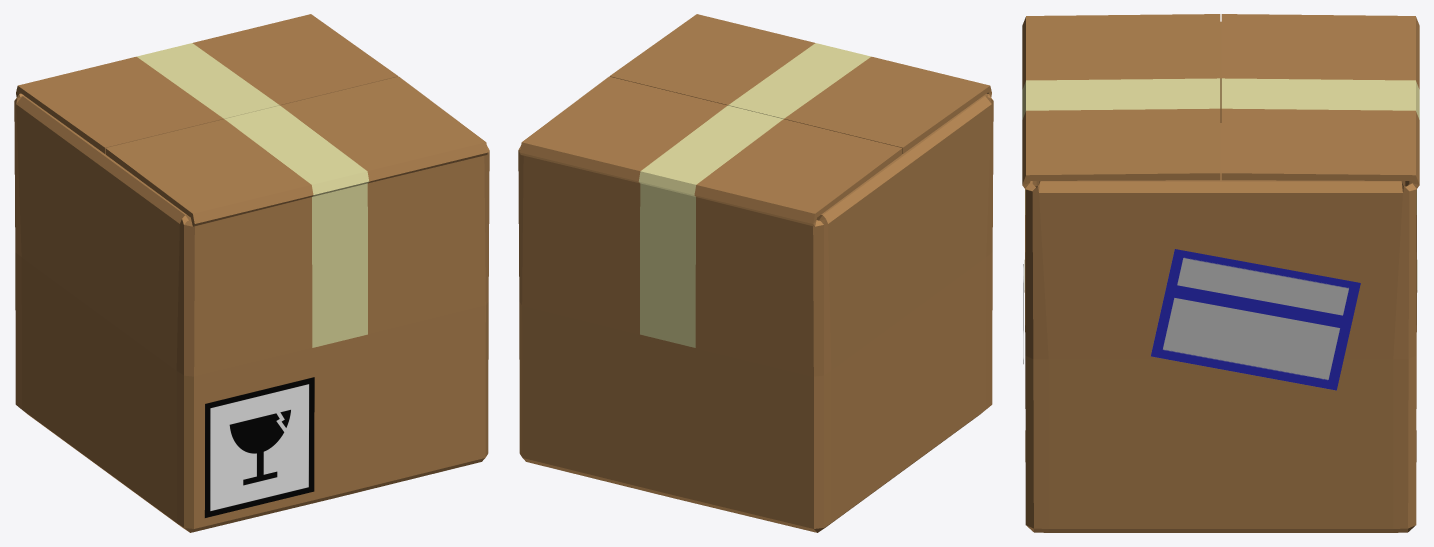
File: Cardboard.029.gltf
3 renders of one model, left to right at view 1: azimuth 30°, elevation 25°; view 2: azimuth 150°, elevation 25°; view 3: azimuth 270°, elevation 25°, orthographic. The views are drawn at different scales.
Visible parts, largest first — view 1: Cardboard.029, sign4.014; view 2: Cardboard.029; view 3: Cardboard.029, BlueSticker.013.
Boxes of the visible parts, x1,y1,x2,y2 form: Cardboard.029: (14, 14, 489, 532); sign4.014: (204, 377, 314, 517); Cardboard.029: (518, 14, 993, 532); Cardboard.029: (1022, 14, 1419, 532); BlueSticker.013: (1151, 249, 1360, 390).
Size of the model in its own units: 0.3852 by 0.3861 by 0.3856.
Materials: 4 (2 with a texture image).
